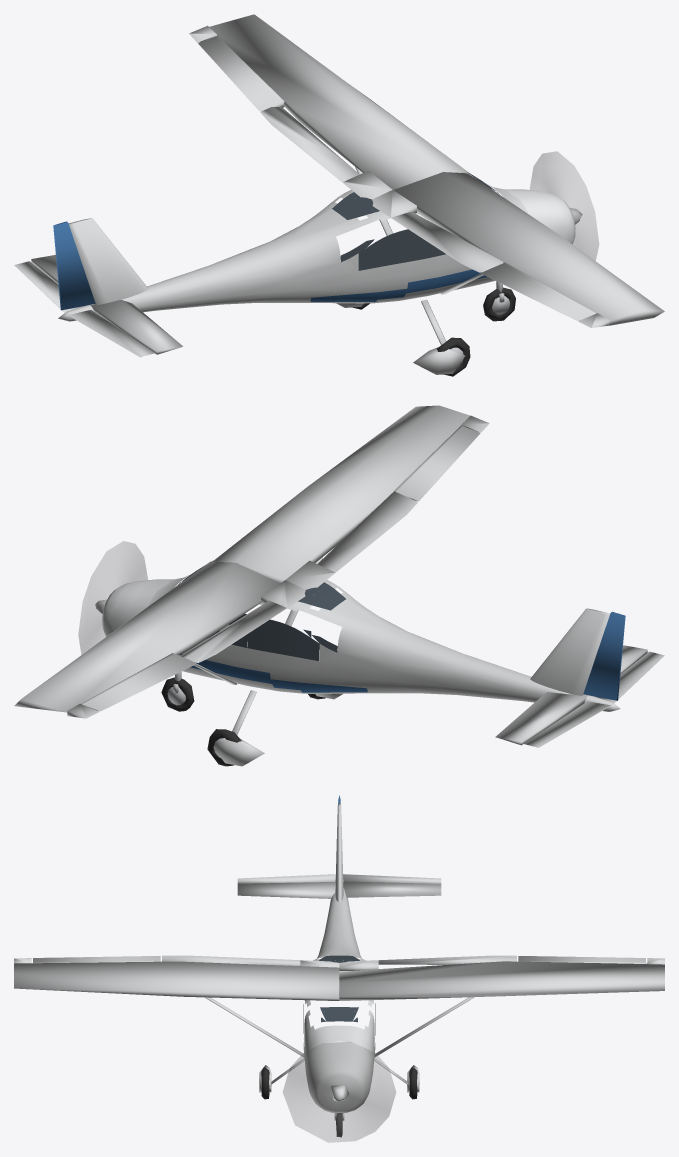
File: wren_lod2.glb
3 views of the same model, one above another, from view 1: azimuth 30°, elevation 25°; view 2: azimuth 150°, elevation 25°; view 3: azimuth 270°, elevation 25° (orthographic). The views are drawn at different scales.
Visible parts, largest first — view 1: fuselage, wing_L, wing_R, fin, prop_1_disc, glass, stabilizer, rudder, aileron_L, flap_R_1, flap_L_1, elevator (+3 smaller); view 2: fuselage, wing_R, wing_L, fin, prop_1_disc, glass, stabilizer, flap_R_1, rudder, aileron_R, aileron_L, elevator (+3 smaller); view 3: wing_R, wing_L, prop_1_disc, fuselage, stabilizer, elevator, flap_L_1, flap_R_1, glass, aileron_L, aileron_R, fin.
Boxes of the visible parts, bbox=[...] form: fuselage: bbox=[58, 184, 575, 321]; wing_L: bbox=[189, 14, 467, 199]; wing_R: bbox=[372, 172, 664, 327]; fin: bbox=[68, 218, 148, 305]; prop_1_disc: bbox=[530, 151, 598, 260]; glass: bbox=[332, 172, 499, 270]; stabilizer: bbox=[31, 255, 182, 354]; rudder: bbox=[53, 221, 95, 310]; aileron_L: bbox=[198, 35, 284, 111]; flap_R_1: bbox=[391, 211, 503, 272]; flap_L_1: bbox=[260, 107, 359, 182]; elevator: bbox=[14, 261, 154, 357]; fuselage: bbox=[102, 575, 620, 711]; wing_R: bbox=[213, 405, 489, 589]; wing_L: bbox=[14, 561, 305, 718]; fin: bbox=[530, 608, 609, 695]; prop_1_disc: bbox=[78, 541, 147, 654]; glass: bbox=[178, 561, 345, 660]; stabilizer: bbox=[495, 645, 647, 745]; flap_R_1: bbox=[317, 491, 417, 572]; rudder: bbox=[583, 611, 625, 700]; aileron_R: bbox=[394, 425, 480, 501]; aileron_L: bbox=[81, 653, 196, 711]; elevator: bbox=[523, 651, 664, 747]; wing_R: bbox=[14, 958, 339, 1000]; wing_L: bbox=[339, 958, 664, 1000]; prop_1_disc: bbox=[283, 1042, 395, 1142]; fuselage: bbox=[303, 880, 375, 1113]; stabilizer: bbox=[237, 881, 441, 898]; elevator: bbox=[237, 874, 441, 883]; flap_L_1: bbox=[378, 955, 516, 964]; flap_R_1: bbox=[162, 955, 300, 965]; glass: bbox=[303, 955, 375, 1035]; aileron_L: bbox=[518, 956, 645, 963]; aileron_R: bbox=[33, 956, 160, 963]; fin: bbox=[335, 803, 343, 902].
Bounding box in the file's own units: 8.35 × 3.07 × 11.
